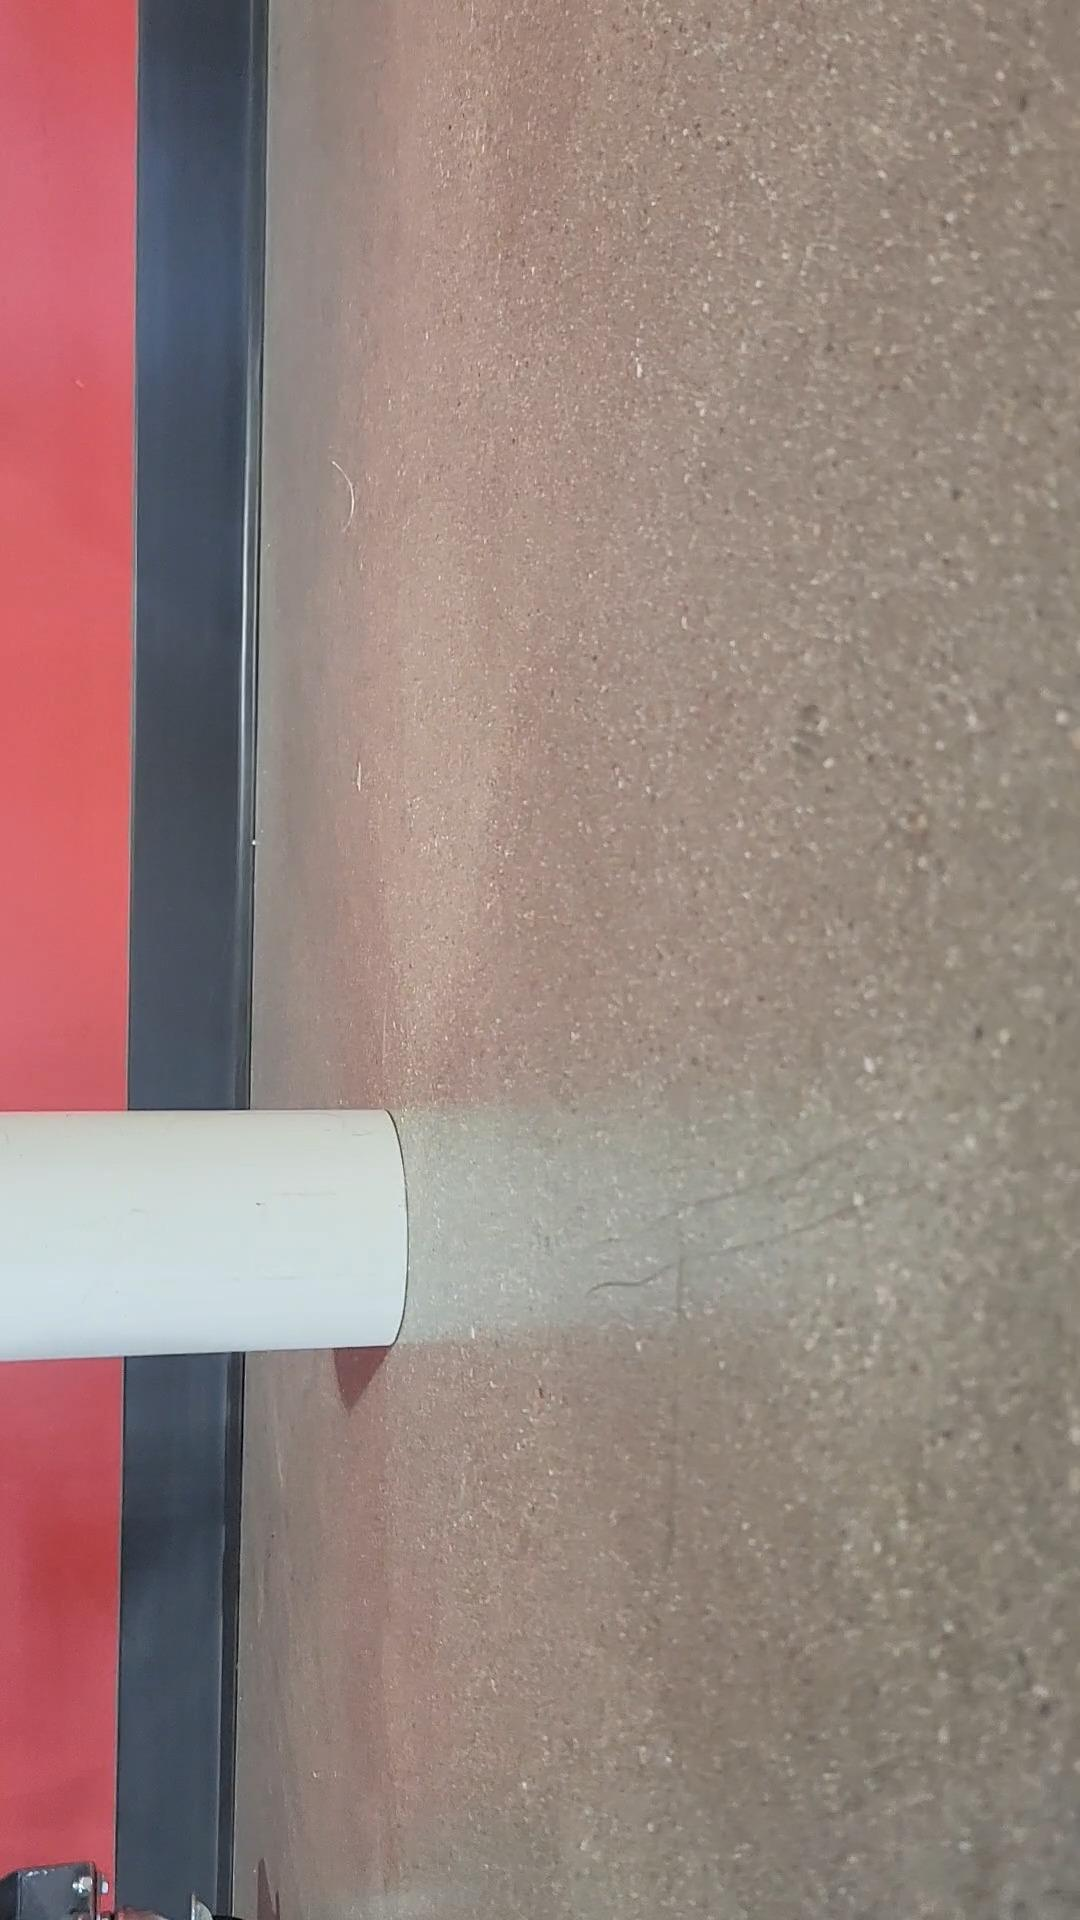coral: (0, 1113, 407, 1362)
